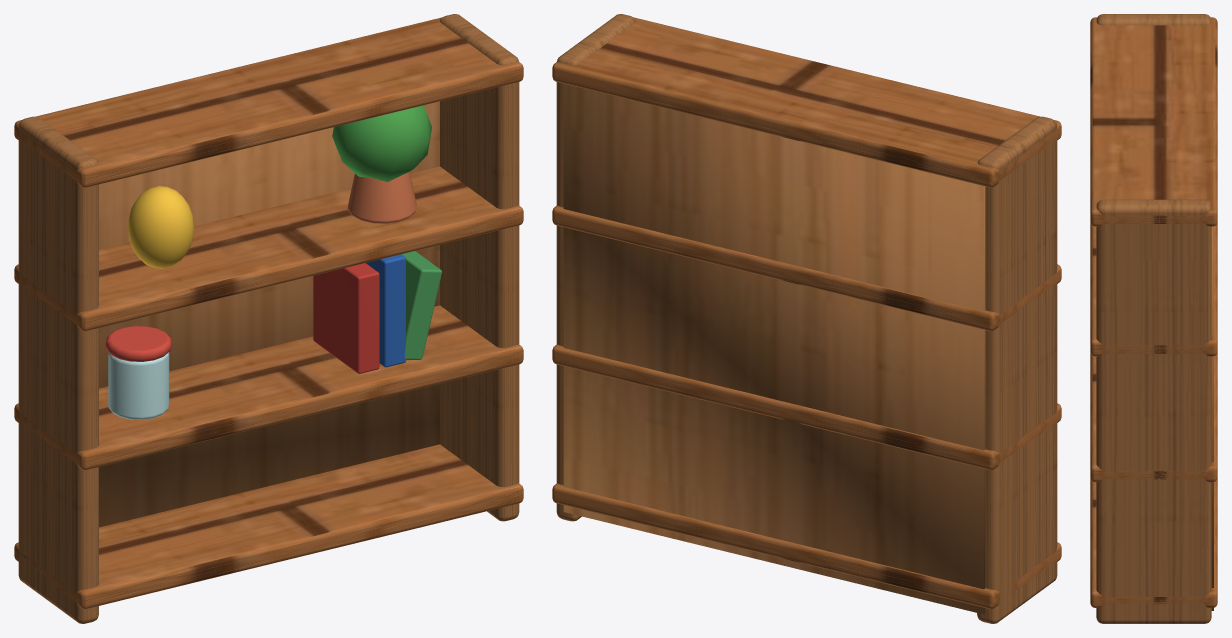
Rendered from shelf.glb.
The picture shows the model from 3 angles, left to right: view 1: azimuth 30°, elevation 25°; view 2: azimuth 150°, elevation 25°; view 3: azimuth 270°, elevation 25°; orthographic projection. The views are drawn at different scales.
Visible parts, largest first — view 1: shelf_back, shelf_side, shelf_board.003, shelf_board, shelf_board.002, shelf_side.001, shelf_board.001, book1, plant, egg_trophy, jar, book2 (+3 smaller); view 2: shelf_back, shelf_board.003, shelf_side, shelf_board.001, shelf_board.002, shelf_board, shelf_side.001; view 3: shelf_side.001, shelf_board.003, shelf_board.002, shelf_board.001, shelf_board, shelf_side, shelf_back.
Boxes of the visible parts, x1,y1,x2,y2 form: shelf_back: (99,101,439,527); shelf_side: (18,116,98,623); shelf_board.003: (14,17,523,187); shelf_board: (14,444,523,608); shelf_board.002: (14,166,523,331); shelf_side.001: (440,14,519,521); shelf_board.001: (14,305,523,469); book1: (313,263,379,373); plant: (332,105,431,182); egg_trophy: (128,186,193,268); jar: (108,352,169,419); book2: (366,254,405,367); shelf_back: (563,83,985,614); shelf_board.003: (552,17,1061,187); shelf_side: (977,116,1057,623); shelf_board.001: (552,344,1061,469); shelf_board.002: (552,205,1061,331); shelf_board: (552,483,1061,608); shelf_side.001: (556,14,635,521); shelf_side.001: (1096,199,1211,623); shelf_board.003: (1090,17,1217,226); shelf_board.002: (1090,222,1217,356); shelf_board.001: (1090,352,1217,482); shelf_board: (1090,478,1217,607); shelf_side: (1096,14,1211,25); shelf_back: (1211,226,1213,610).
Size of the model in its own units: 2 by 2 by 0.55.
Materials: 10 (2 with a texture image).
